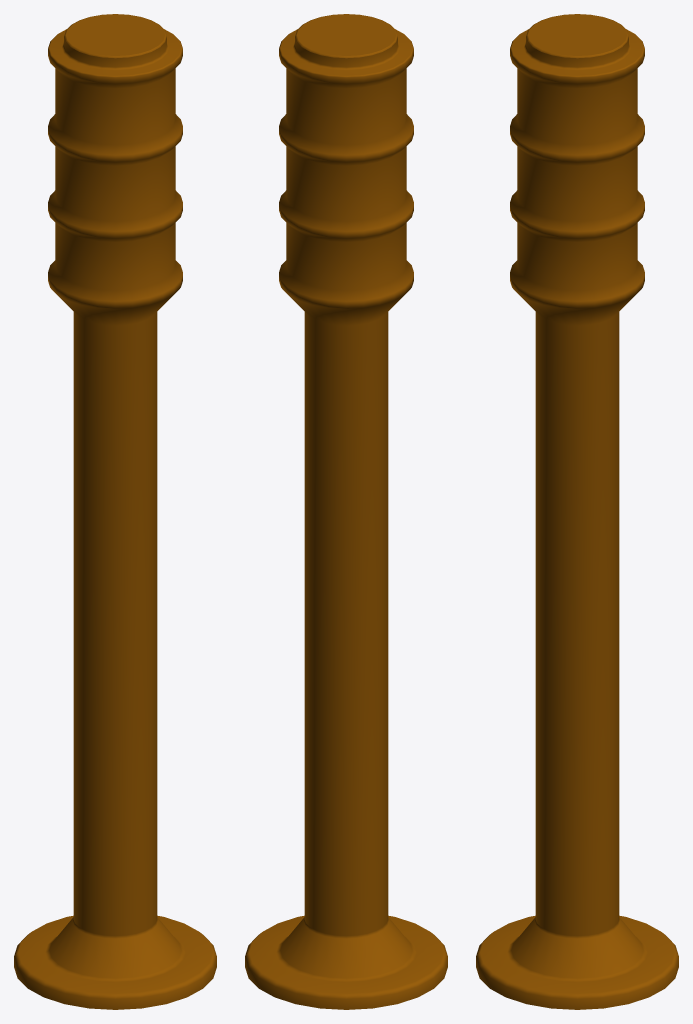
The model's file is Street_Lamp_04.fbx.
3 renders of one model, left to right at view 1: azimuth 30°, elevation 25°; view 2: azimuth 150°, elevation 25°; view 3: azimuth 270°, elevation 25°, orthographic.
Parts seen in each view (by area): view 1: Street_Lamp_04; view 2: Street_Lamp_04; view 3: Street_Lamp_04.
Boxes of the visible parts, box(x1,y1,x2,y2) form: Street_Lamp_04: box(14, 14, 216, 1009); Street_Lamp_04: box(245, 14, 447, 1009); Street_Lamp_04: box(476, 14, 678, 1009).
Bounding box in the file's own units: 25 × 127 × 25.
